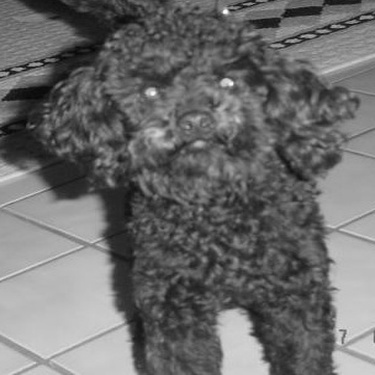dog: (19, 1, 361, 372)
